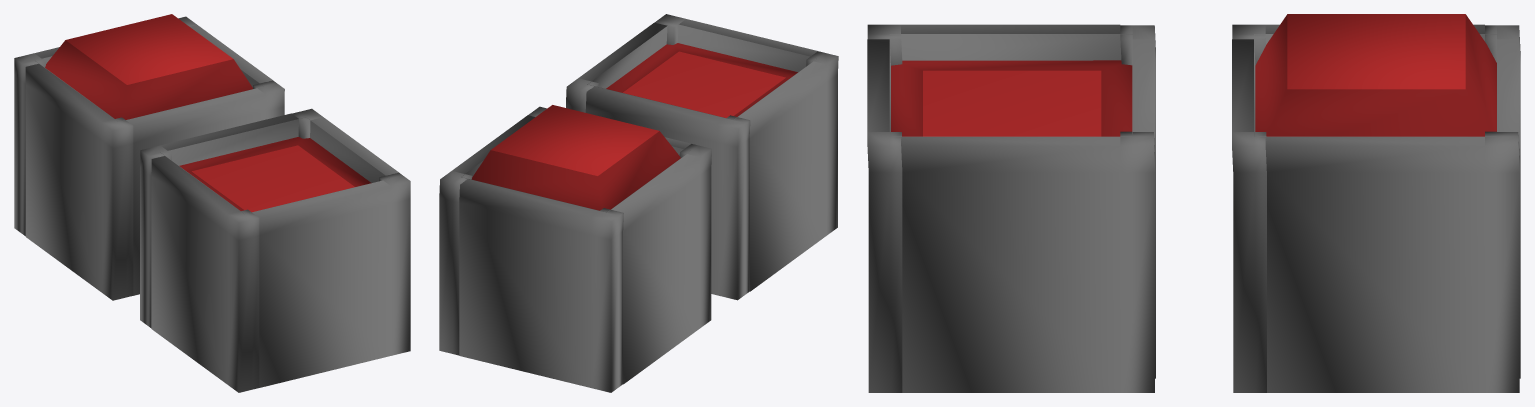
The model's file is Boton.glb.
3 views of the same model, side by side, from view 1: azimuth 30°, elevation 25°; view 2: azimuth 150°, elevation 25°; view 3: azimuth 270°, elevation 25° (orthographic). The views are drawn at different scales.
Parts seen in each view (by area): view 1: Cube-colonly.001, Cube; view 2: Cube, Cube-colonly.001; view 3: Cube, Cube-colonly.001.
Boxes of the visible parts, x1,y1,x2,y2 form: Cube-colonly.001: (140, 108, 410, 392); Cube: (14, 14, 284, 300); Cube: (439, 105, 711, 392); Cube-colonly.001: (566, 14, 838, 300); Cube: (1232, 14, 1520, 392); Cube-colonly.001: (867, 24, 1155, 392).
Size of what is drawn, in the model's own units: 2.37 by 2.55 by 5.38.
